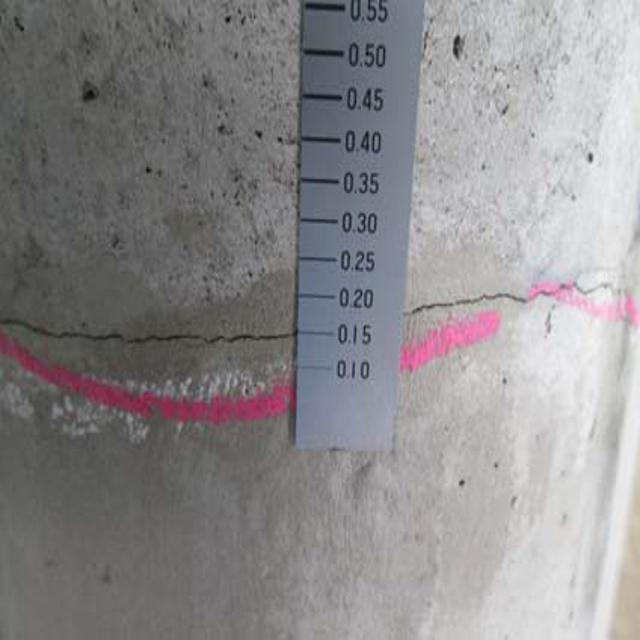crack: (7, 300, 297, 361), (409, 259, 630, 327)
